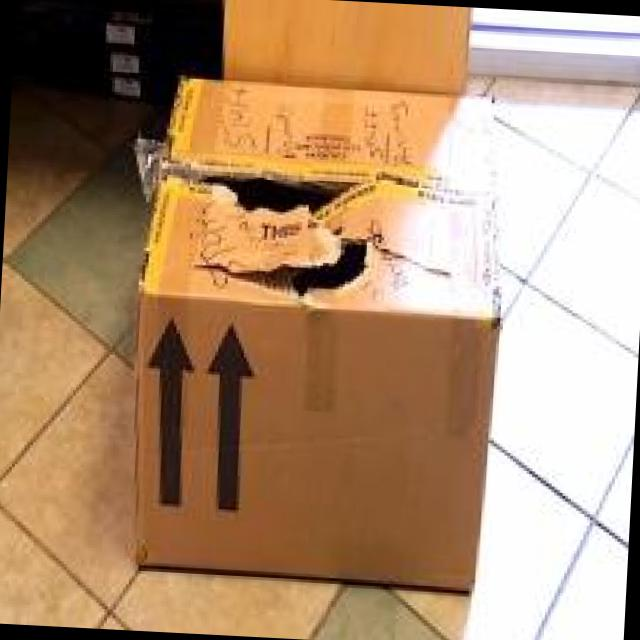box: (1, 46, 640, 576)
